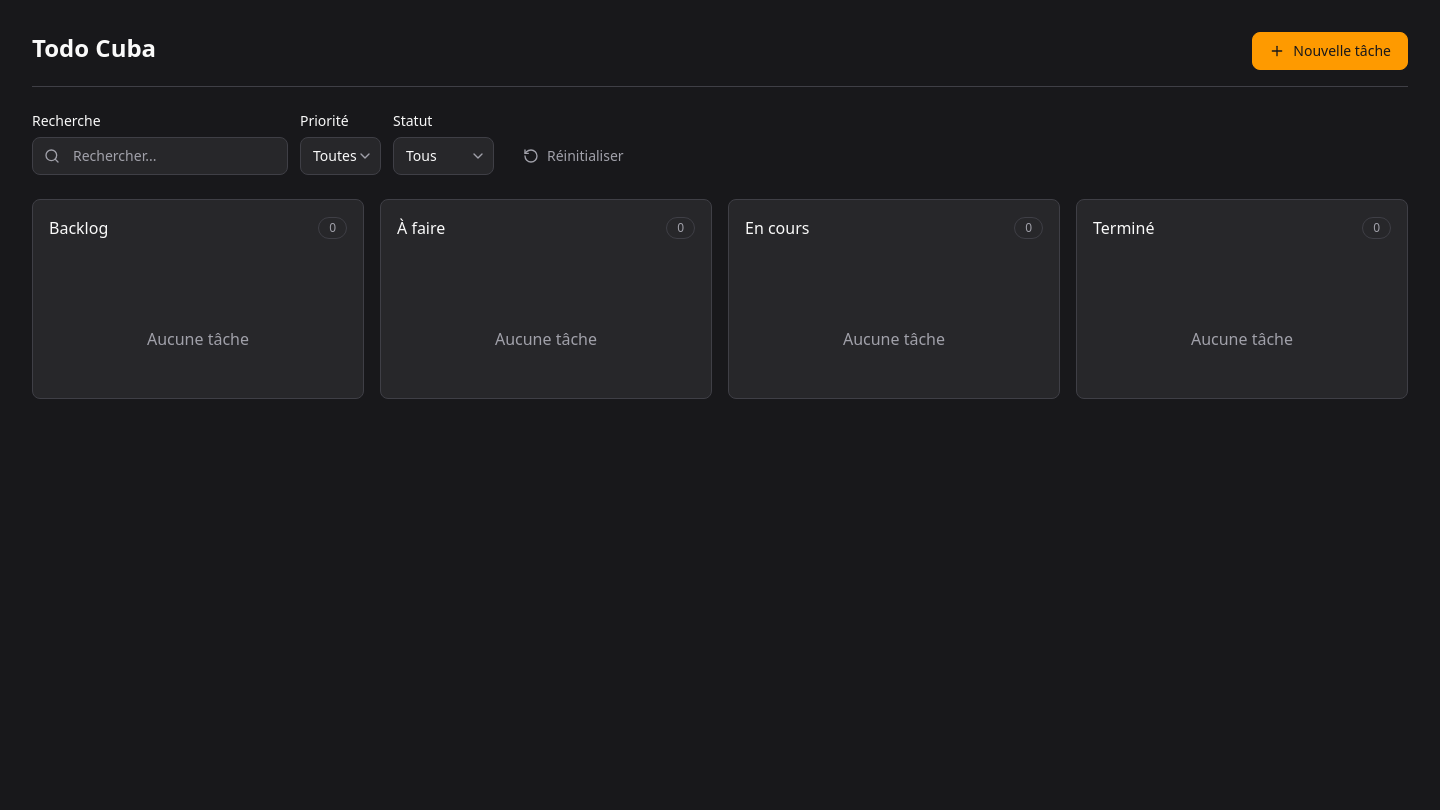
Test: Page d'accueil (HomePage) › cliquer sur 'Nouvelle tâche' ouvre le modal TaskForm en mode création
Click the button "Nouvelle tâche".
click(1330, 51)  # box [1252,32,1408,70]
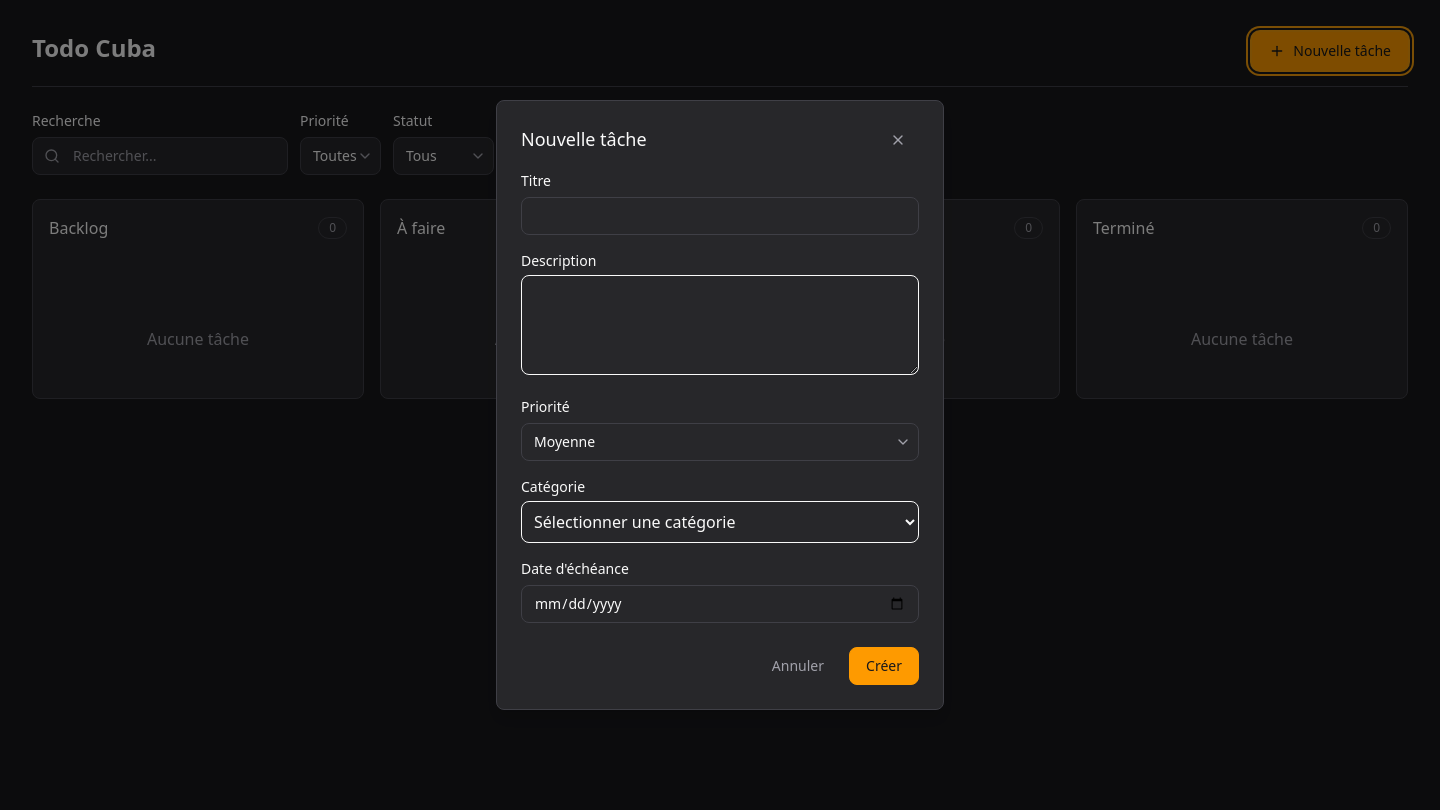
Check: the heading "Nouvelle tâche" is shown, box [521,125,647,153]
